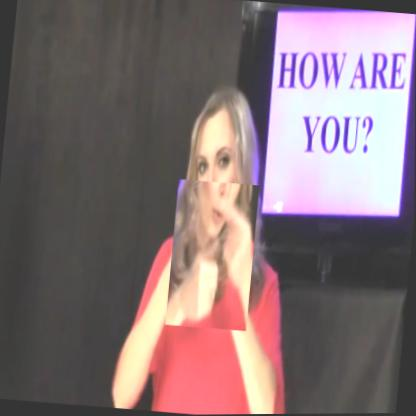HowAreYou: (166, 178, 260, 332)
